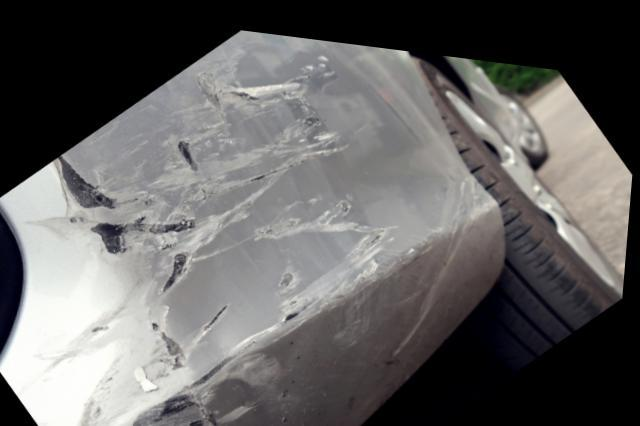scratch: (14, 35, 486, 426)
